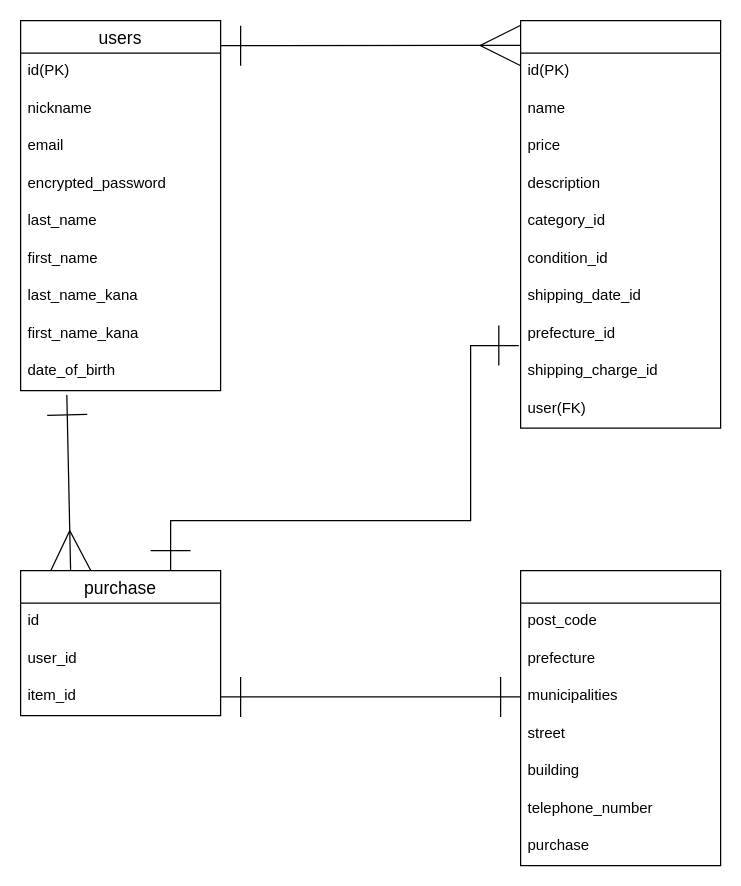
The diagram is 741 pixels wide and 886 high, and some of its shapes have lost their labels. The box of each missing label's shape, as (x1, y1, x2, y2) in pixels:
addresses: (519, 569, 721, 866)
items: (519, 19, 721, 428)
